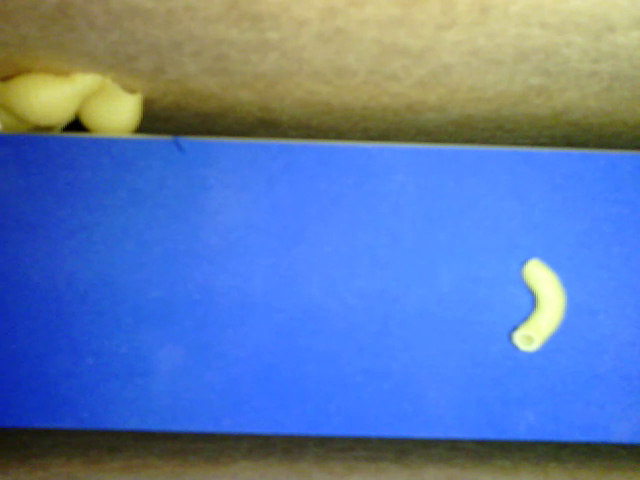elbow: (510, 257, 568, 354)
shell: (1, 69, 111, 118), (79, 75, 144, 137), (1, 99, 79, 134)
